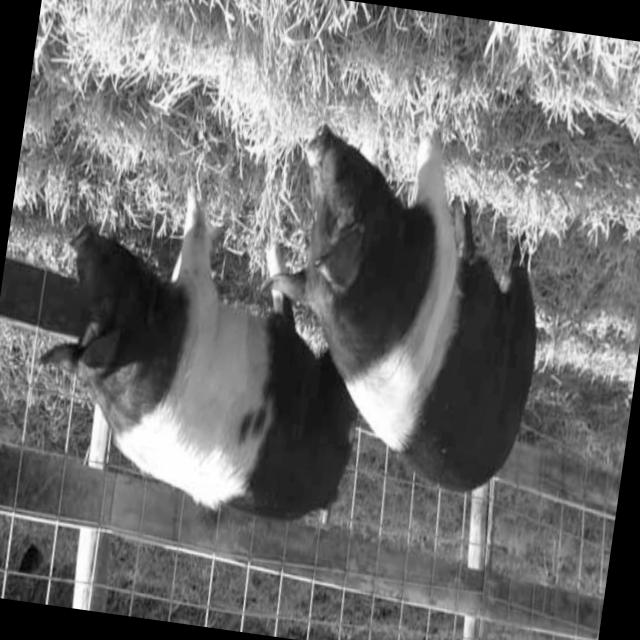pig: (43, 182, 369, 521), (270, 122, 538, 491)
